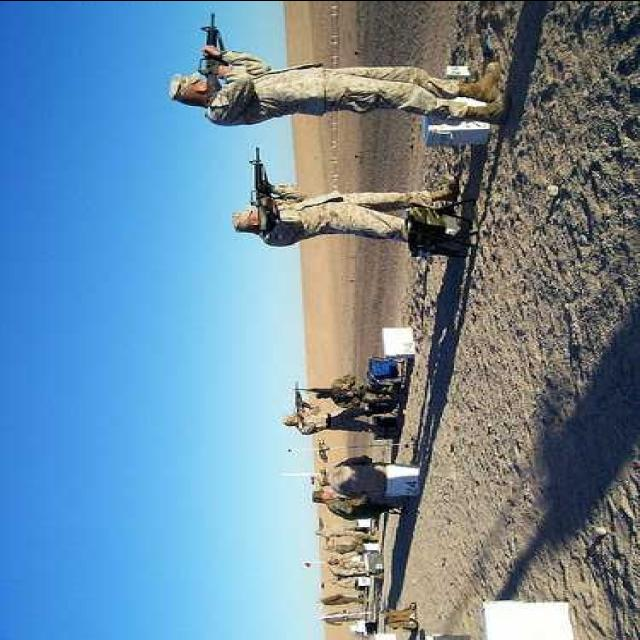heavyweapon: (244, 141, 298, 233)
